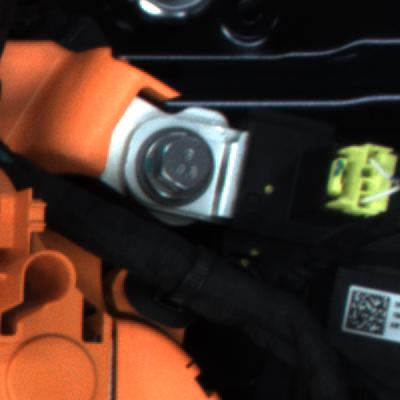nut_b: (131, 123, 223, 213)
